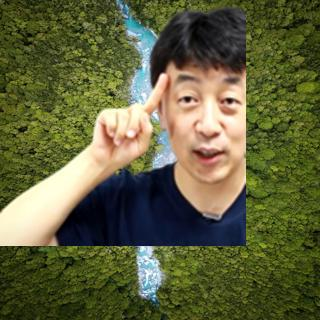IRRITATED: (88, 69, 172, 173)
